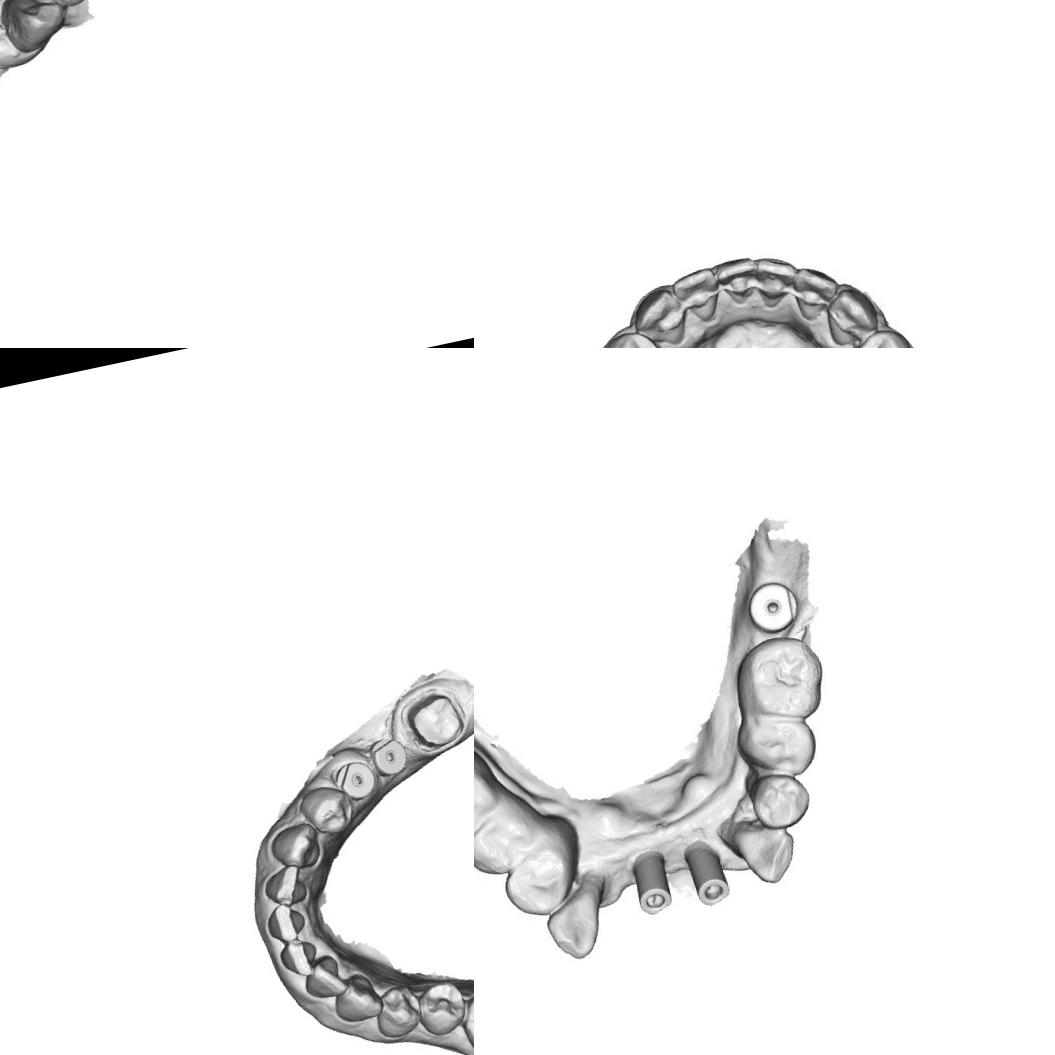canine: (719, 807, 807, 890), (536, 884, 616, 967), (819, 282, 888, 348), (0, 0, 74, 57), (628, 283, 689, 348), (328, 968, 388, 1026), (266, 820, 326, 874)
crown: (396, 681, 474, 757)
implant: (681, 837, 734, 905), (744, 577, 802, 636), (628, 849, 676, 914), (331, 755, 380, 804), (366, 732, 412, 780)
incisor: (790, 259, 844, 324), (711, 248, 768, 308), (673, 264, 726, 327), (299, 950, 350, 1003), (258, 860, 312, 910), (752, 249, 798, 307), (262, 900, 311, 948), (276, 936, 321, 981)
molar: (734, 637, 831, 732), (474, 745, 498, 850)
premolar: (497, 841, 578, 925), (740, 704, 824, 784), (474, 806, 543, 877), (748, 771, 814, 834), (368, 978, 430, 1042), (294, 780, 358, 841), (413, 978, 469, 1040), (845, 324, 919, 348), (595, 324, 669, 348)
